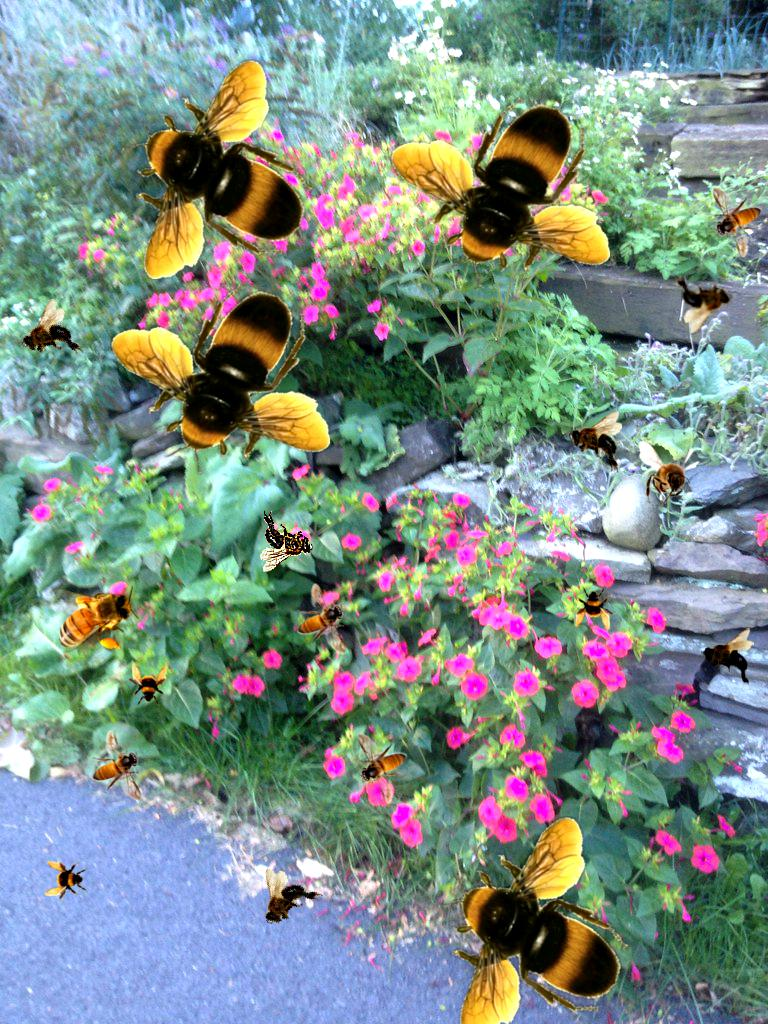Bee: (110, 284, 330, 475), (121, 59, 312, 279), (390, 97, 610, 288), (437, 816, 628, 1024), (46, 585, 139, 653), (10, 296, 87, 378), (246, 864, 325, 940), (670, 260, 739, 336), (639, 441, 700, 511), (357, 733, 407, 804), (297, 583, 347, 654), (92, 730, 142, 801), (712, 187, 762, 258), (260, 510, 313, 572), (569, 411, 622, 473), (701, 628, 754, 690), (573, 586, 617, 630), (125, 663, 169, 707), (44, 859, 88, 903)
